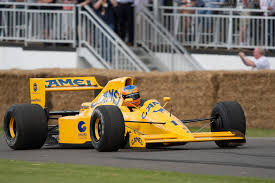f1_car: (2, 69, 255, 160)
